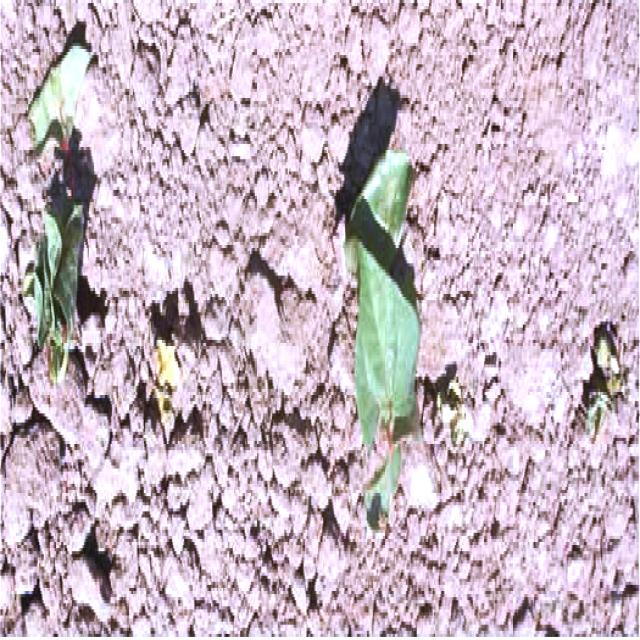Fusarium Wilt: (23, 68, 138, 440), (545, 328, 634, 497)
